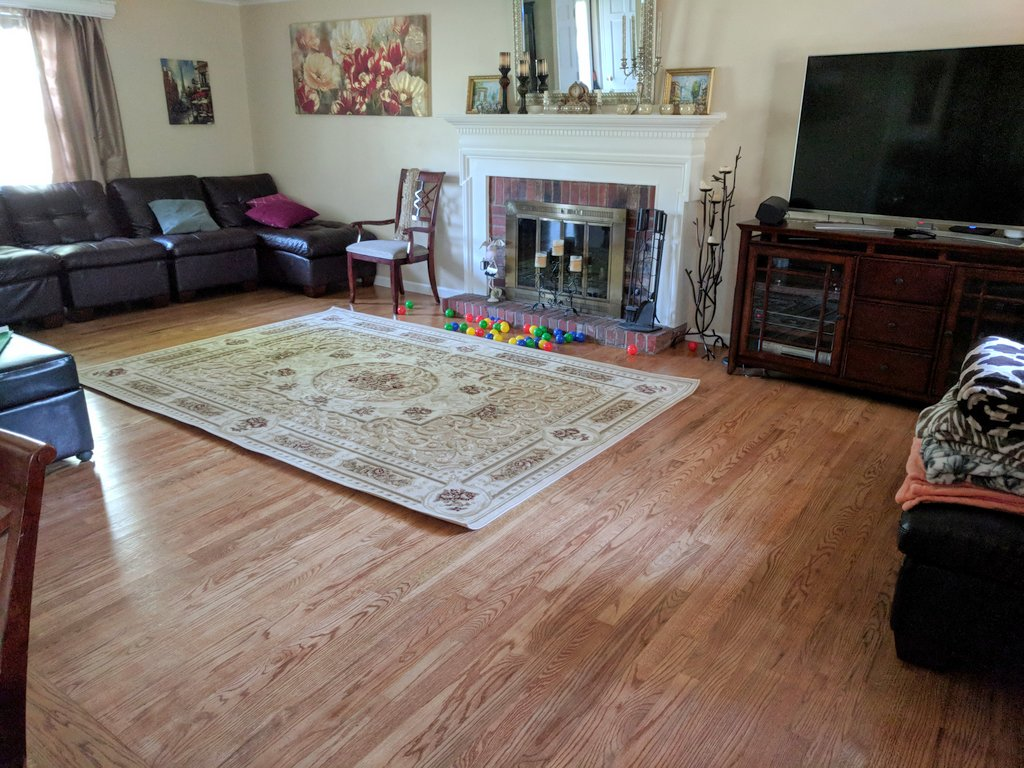ball: (405, 300, 414, 309)
